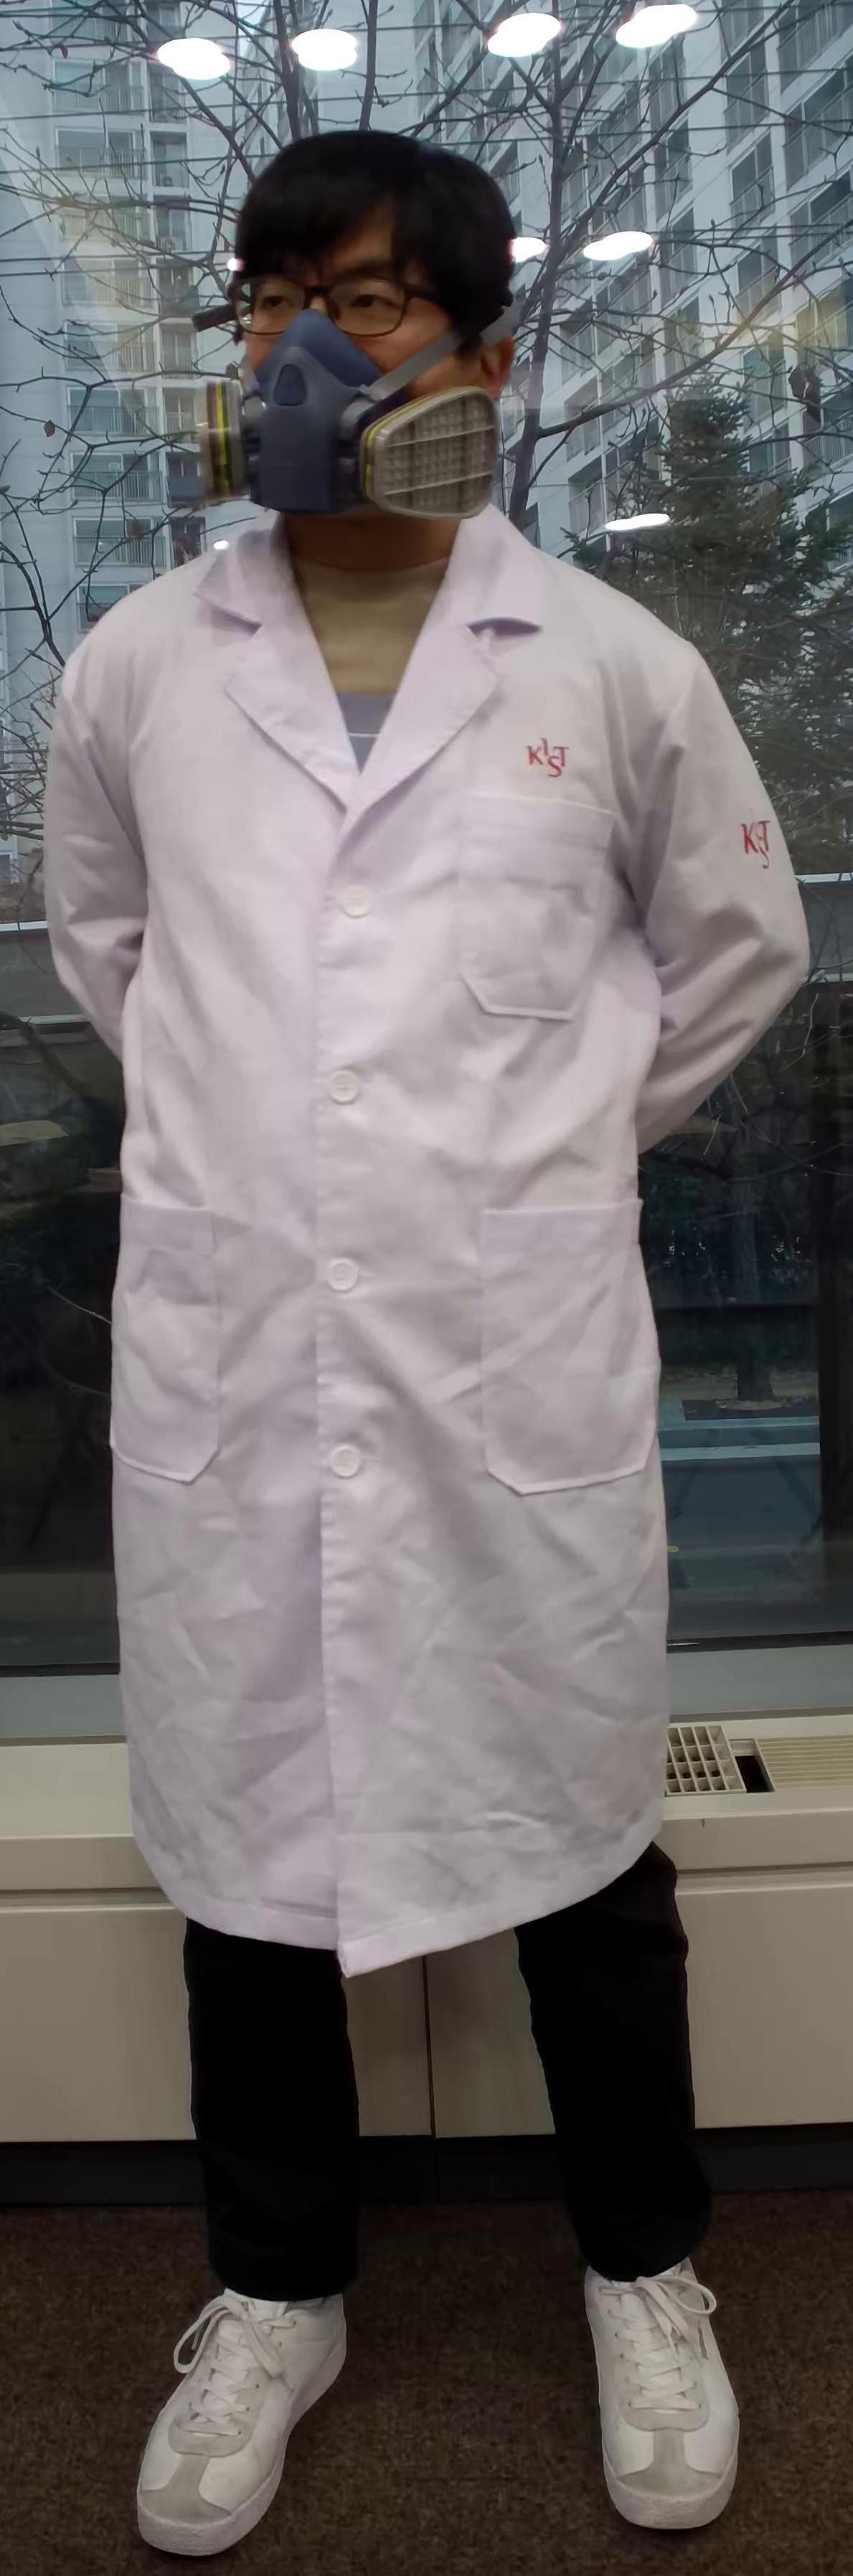lab_coat: (18, 590, 814, 1958)
